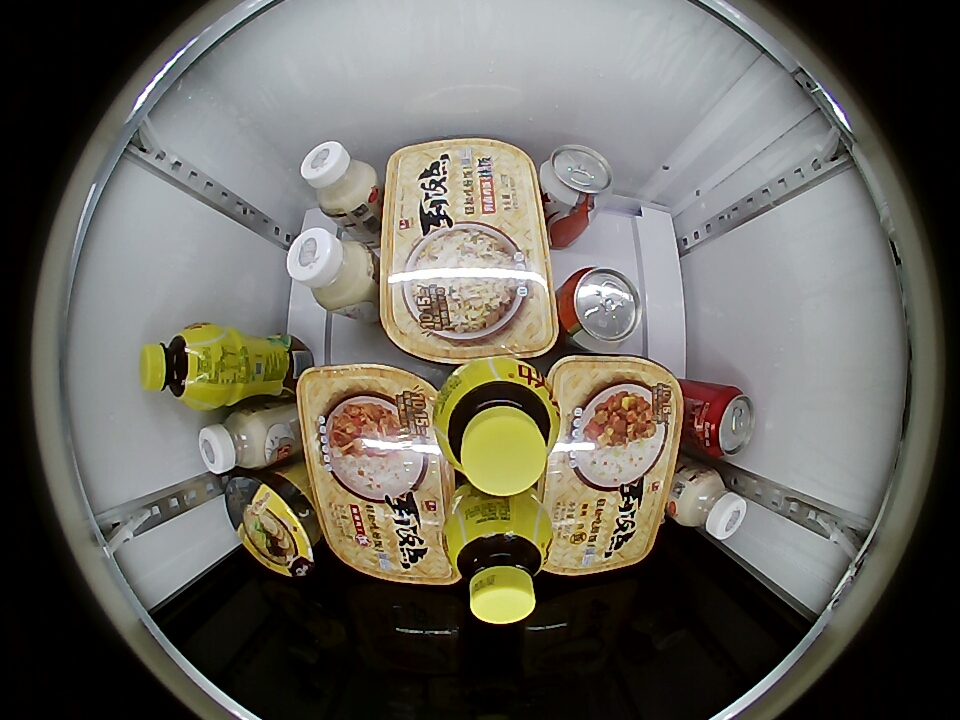daofandian1: (380, 138, 557, 363)
daofandian2: (538, 354, 682, 577)
daofandian4: (297, 363, 457, 585)
jianlibao: (558, 265, 644, 351), (538, 144, 612, 212)
kele: (694, 384, 756, 459)
tangdaren2: (224, 470, 319, 577)
weitaningmeng-bottle: (437, 359, 557, 498), (448, 504, 549, 625), (140, 324, 222, 408)
weiweidounai: (285, 225, 377, 313), (300, 140, 381, 222), (197, 402, 276, 476), (672, 464, 748, 540)
